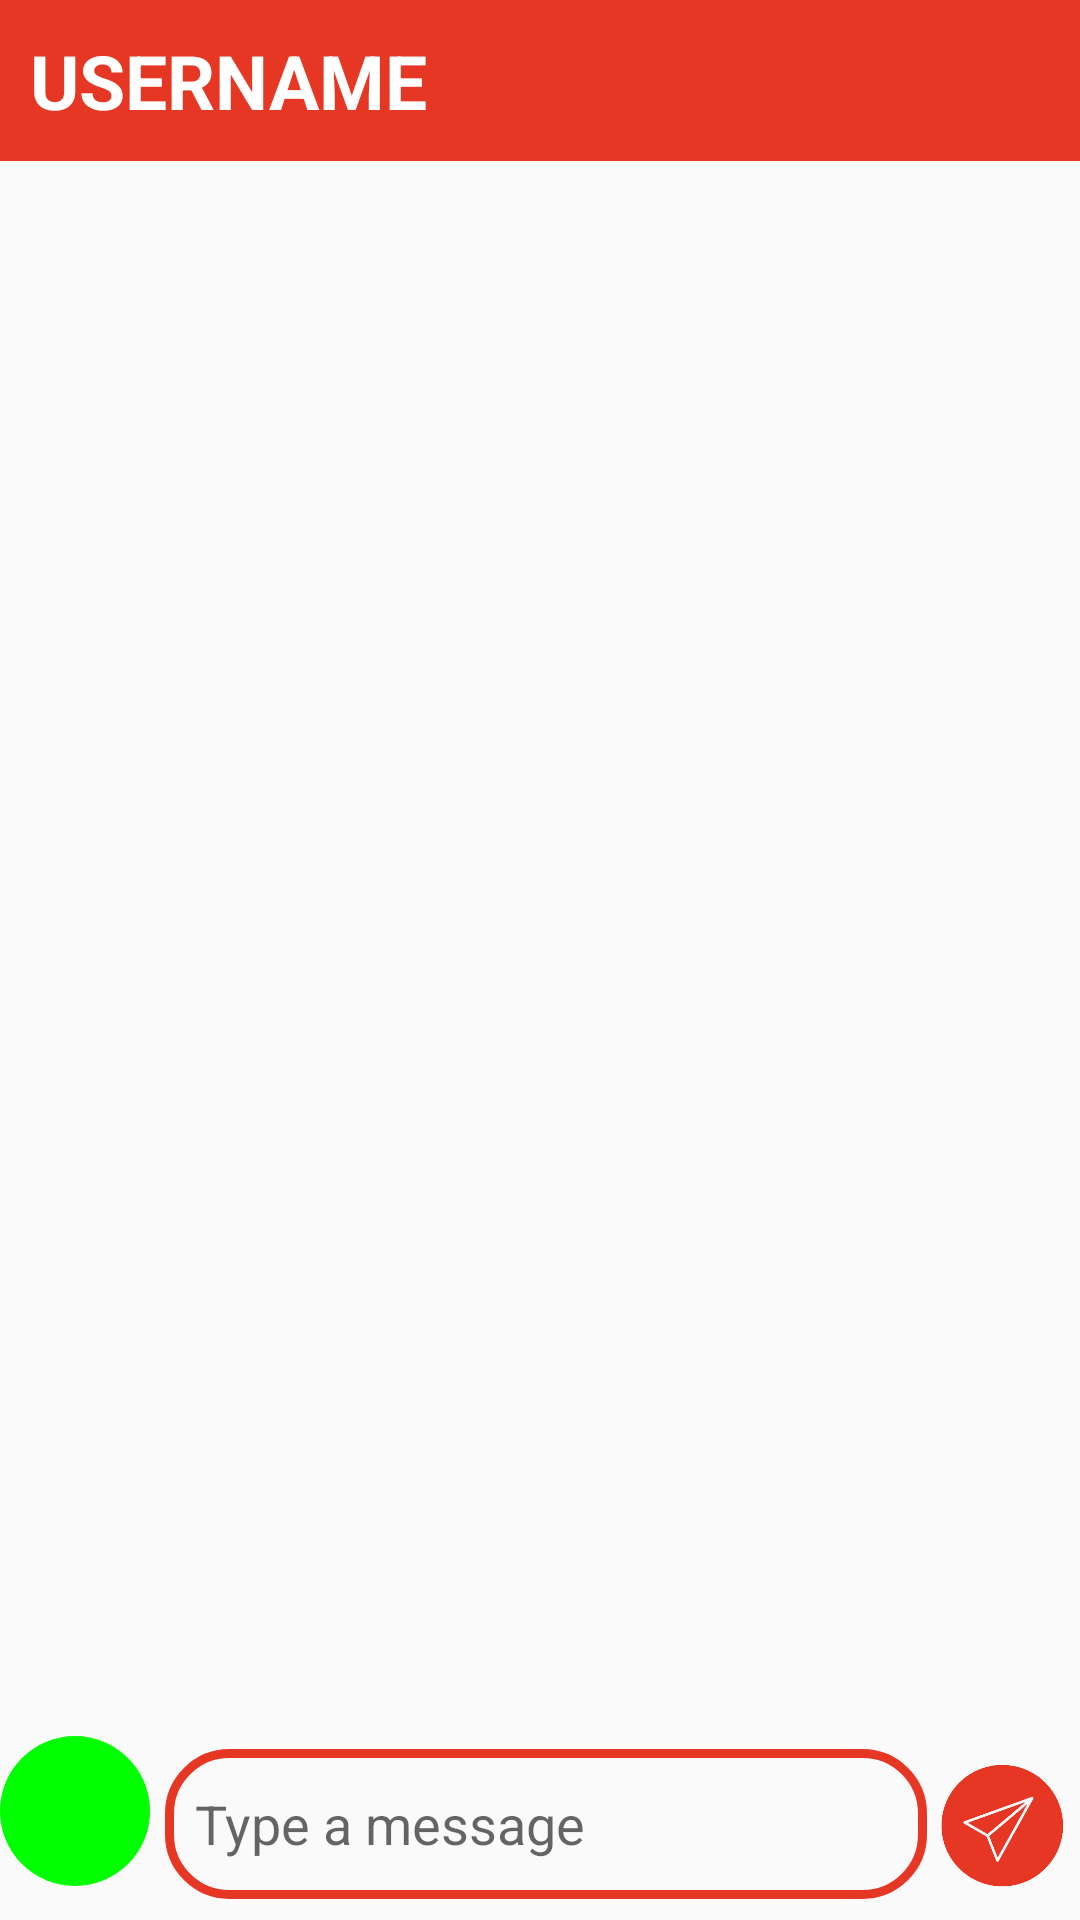

Icons on this 1080px x 1920px Android screen, each with its box as [x1,y1,x2,y2]:
sendbtnremovebg: [941,1765,1063,1887]
